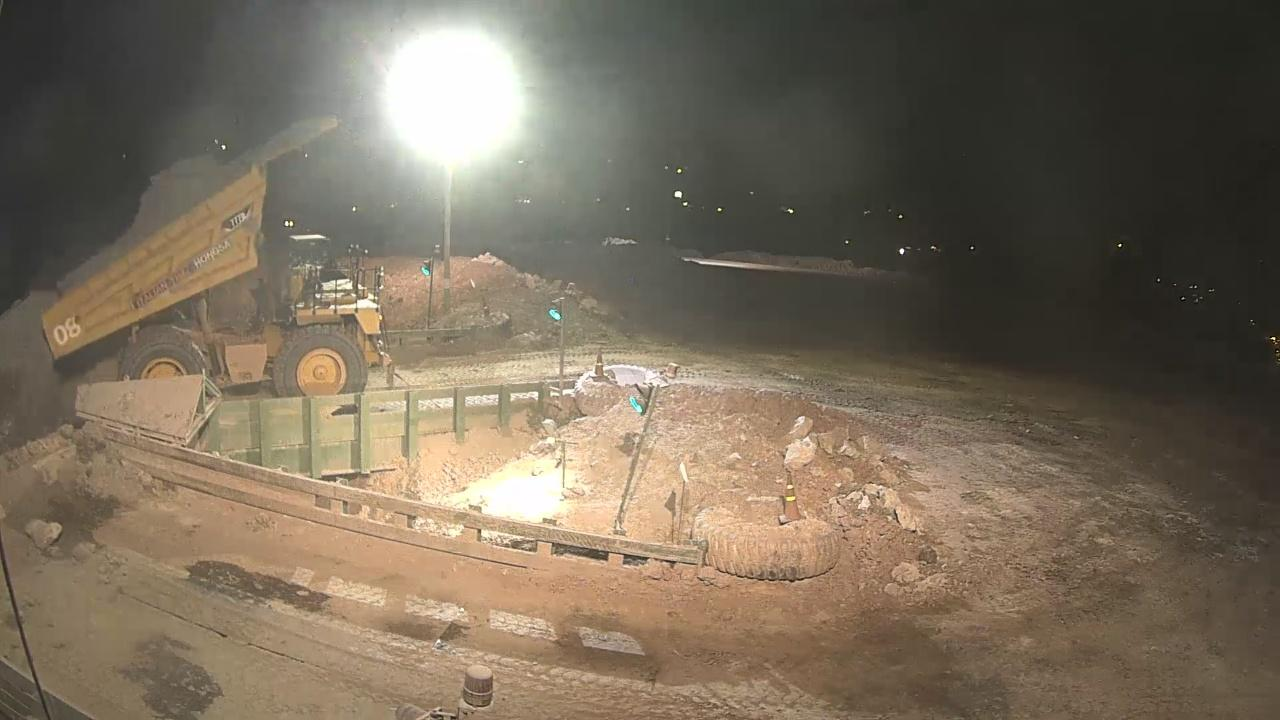dumping_soil: (38, 113, 395, 400)
tail_number: (51, 310, 86, 351)
